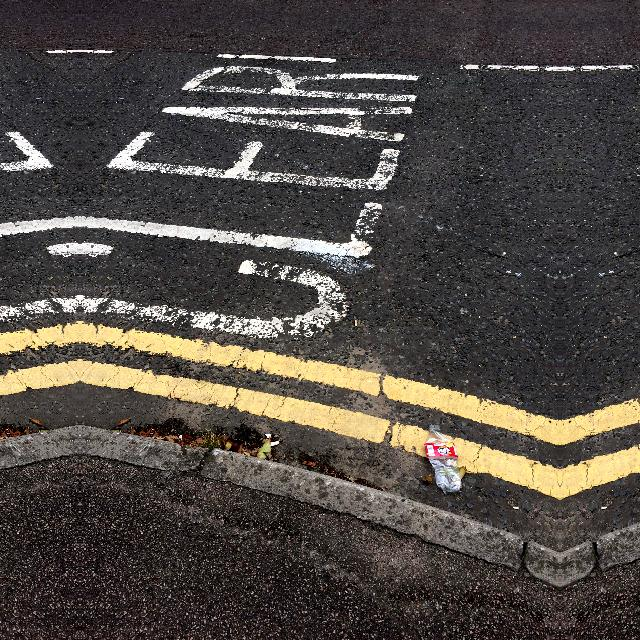Plastic: (416, 418, 476, 507)
